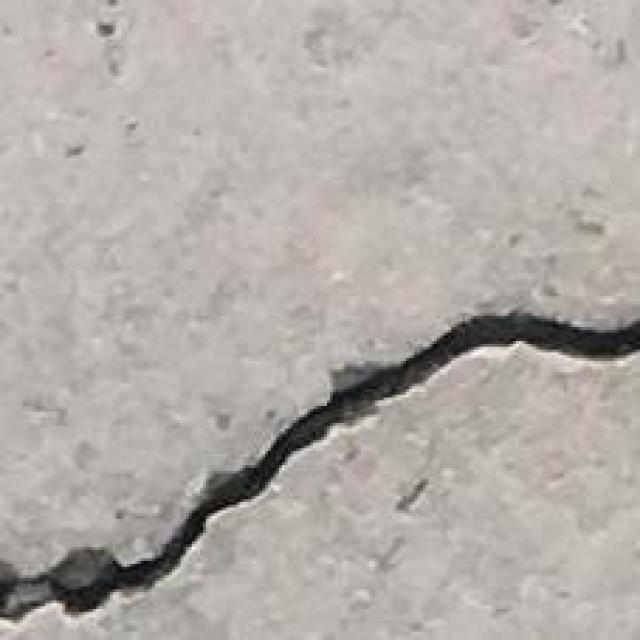Crack: (3, 254, 640, 628)
